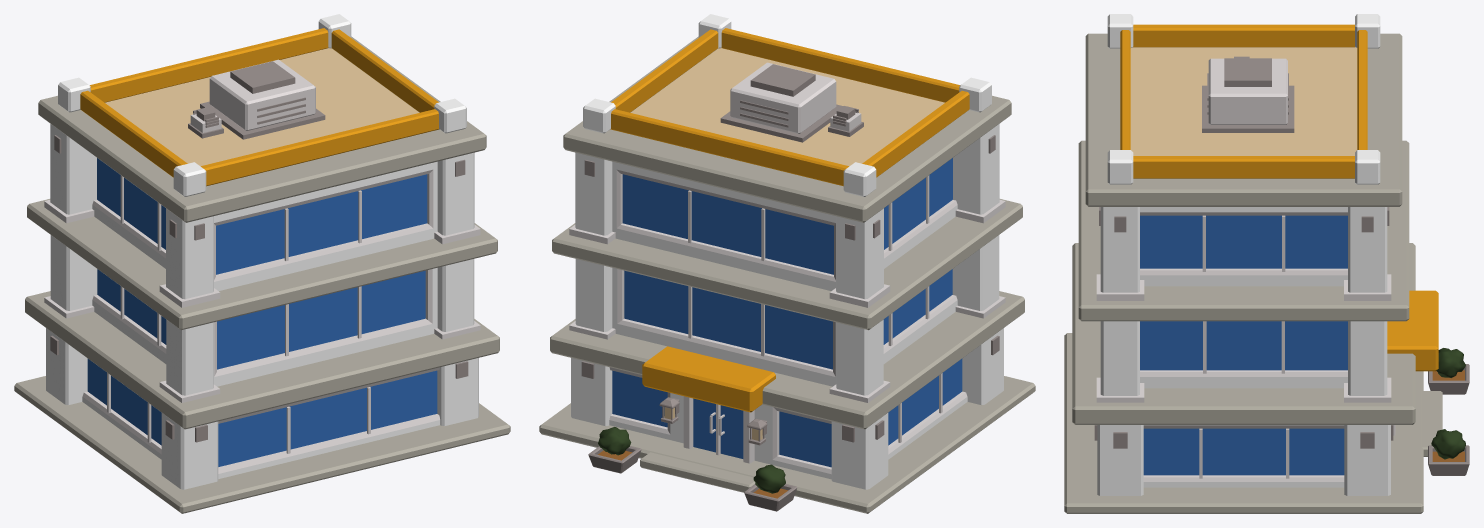
File: BGOffice001_JC.fbx
3 views of the same model, side by side, from view 1: azimuth 30°, elevation 25°; view 2: azimuth 150°, elevation 25°; view 3: azimuth 270°, elevation 25° (orthographic). The views are drawn at different scales.
Visible parts, largest first — view 1: BGOffice001_JC; view 2: BGOffice001_JC; view 3: BGOffice001_JC.
Part boxes in pixels (bbox=[...]): BGOffice001_JC: bbox=[14, 14, 510, 513]; BGOffice001_JC: bbox=[539, 14, 1035, 513]; BGOffice001_JC: bbox=[1064, 14, 1469, 513].
Bounding box in the file's own units: 800 × 779 × 794.
Materials: 1 (1 with a texture image).
